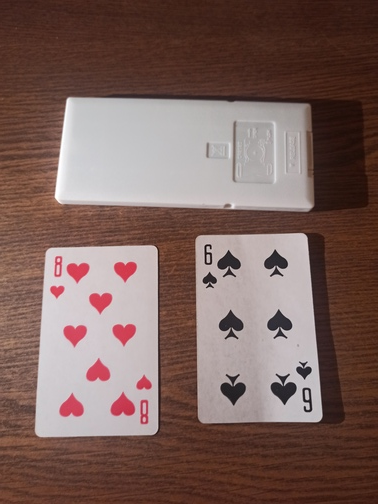eighthearts: (34, 245, 160, 438)
sixspades: (194, 233, 326, 426)
